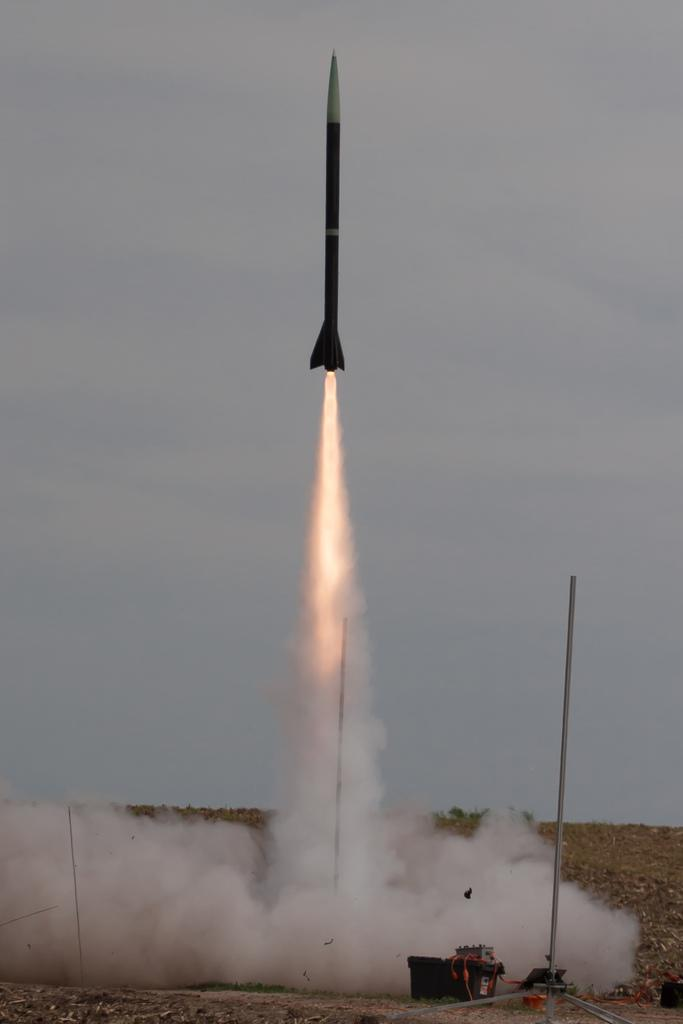Missile: (304, 51, 348, 377)
